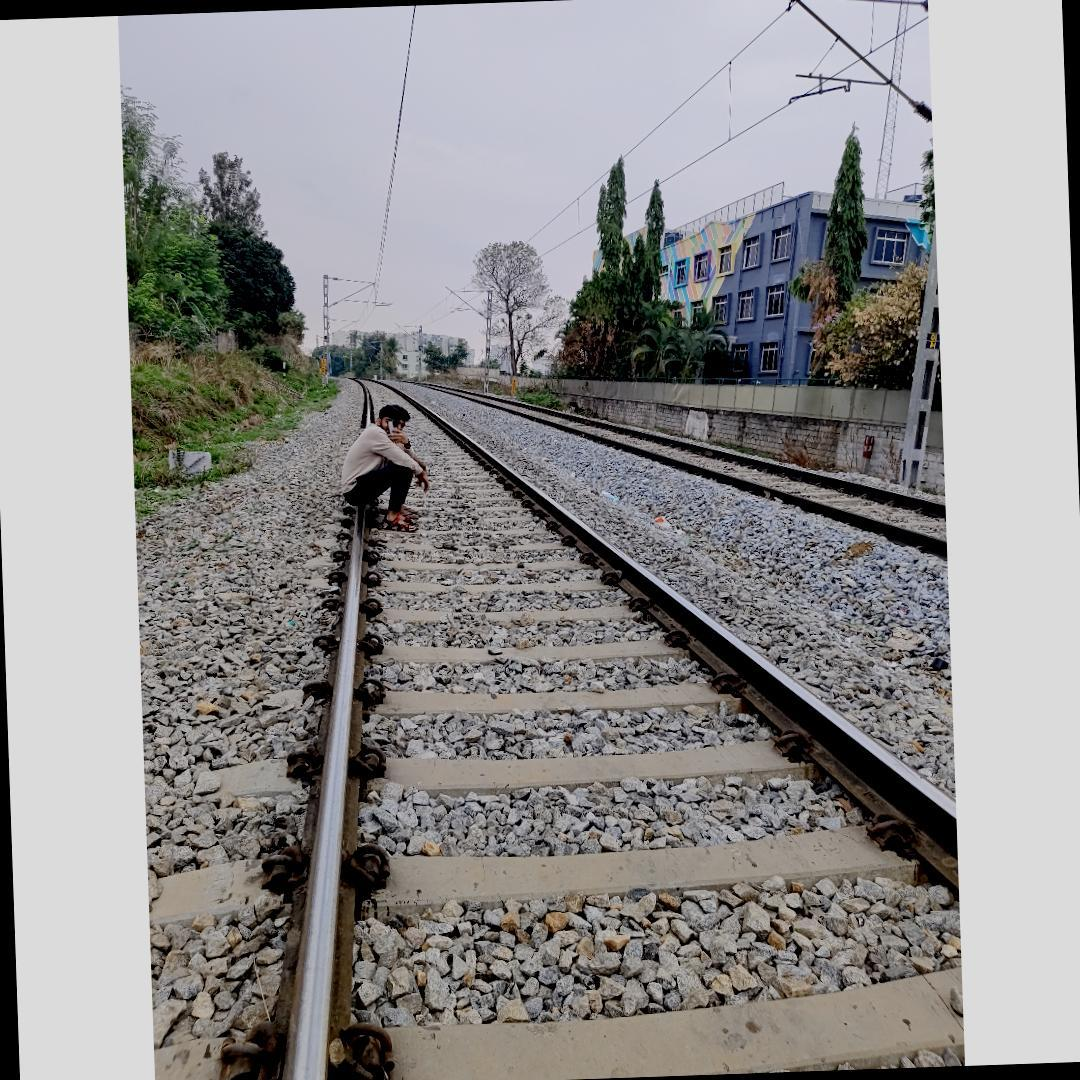sitting: (336, 401, 431, 534)
track: (158, 366, 964, 1080)
